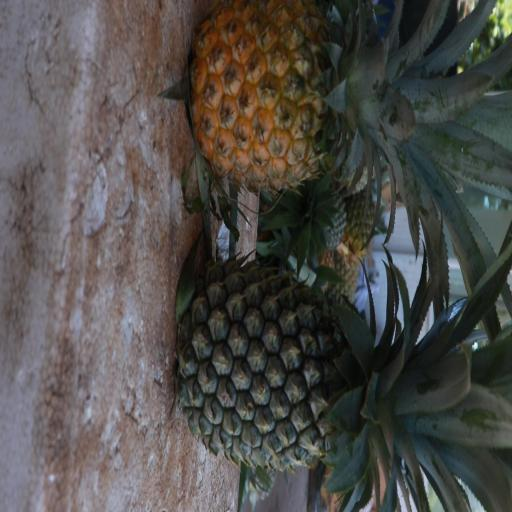Pineapple - v8 v1: (191, 2, 484, 190)
